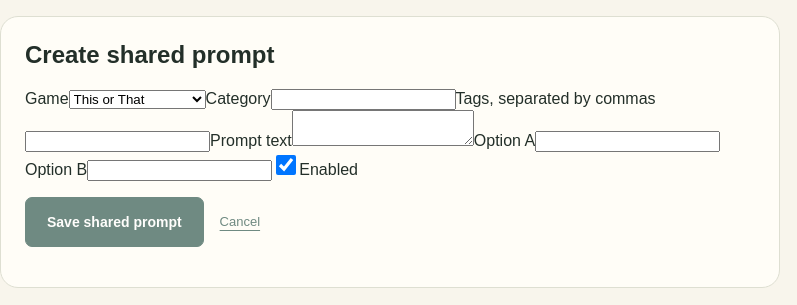
it: omits binary choices for statement games and blocks save while pending
Select "Never Have I Ever" in the dropdown labelled "Game" at (137, 99), box left=69, top=90, right=206, bottom=109
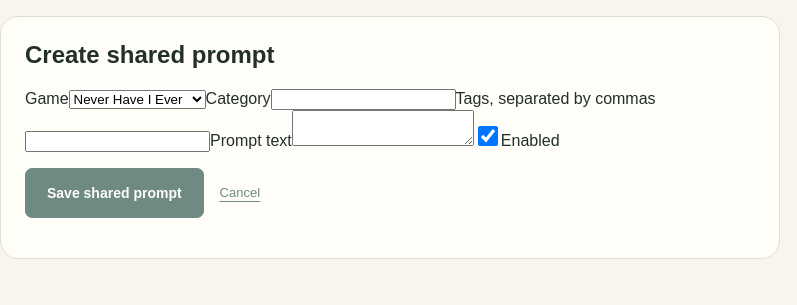
Expected: the button "Save shared prompt" is disabled, left=25, top=168, right=204, bottom=218
Expected: the label labelled "Option A" is gone
